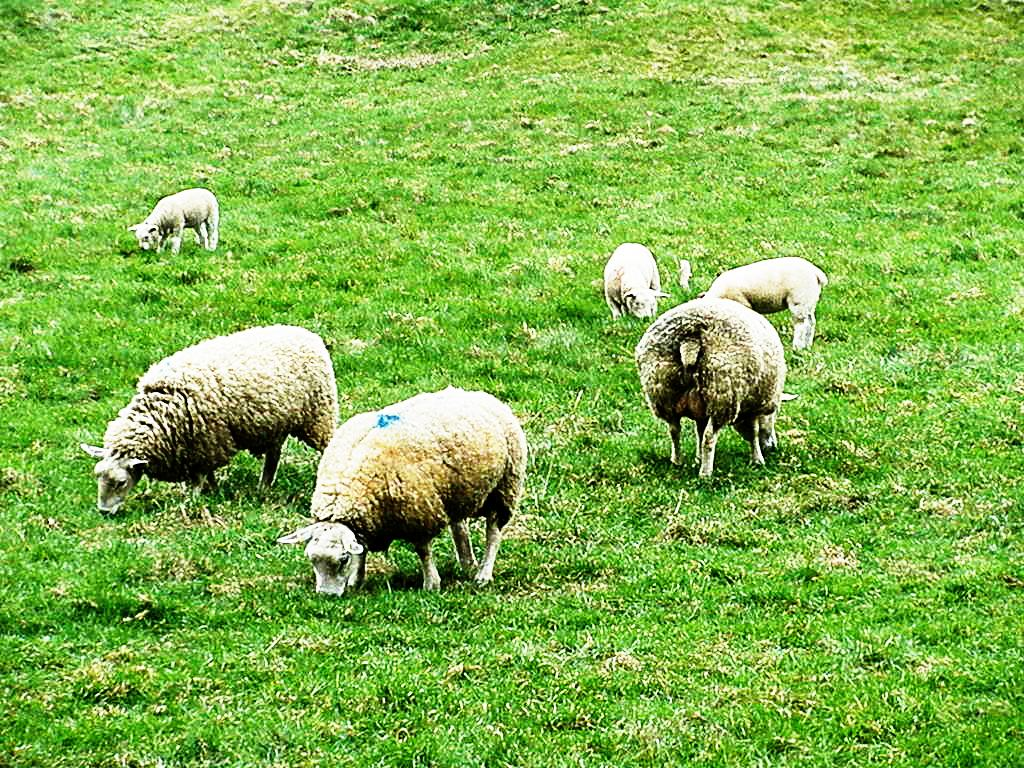Sheep: (277, 381, 525, 599), (80, 325, 334, 525), (634, 299, 784, 479), (701, 256, 826, 346), (130, 190, 218, 257), (603, 241, 674, 320)
